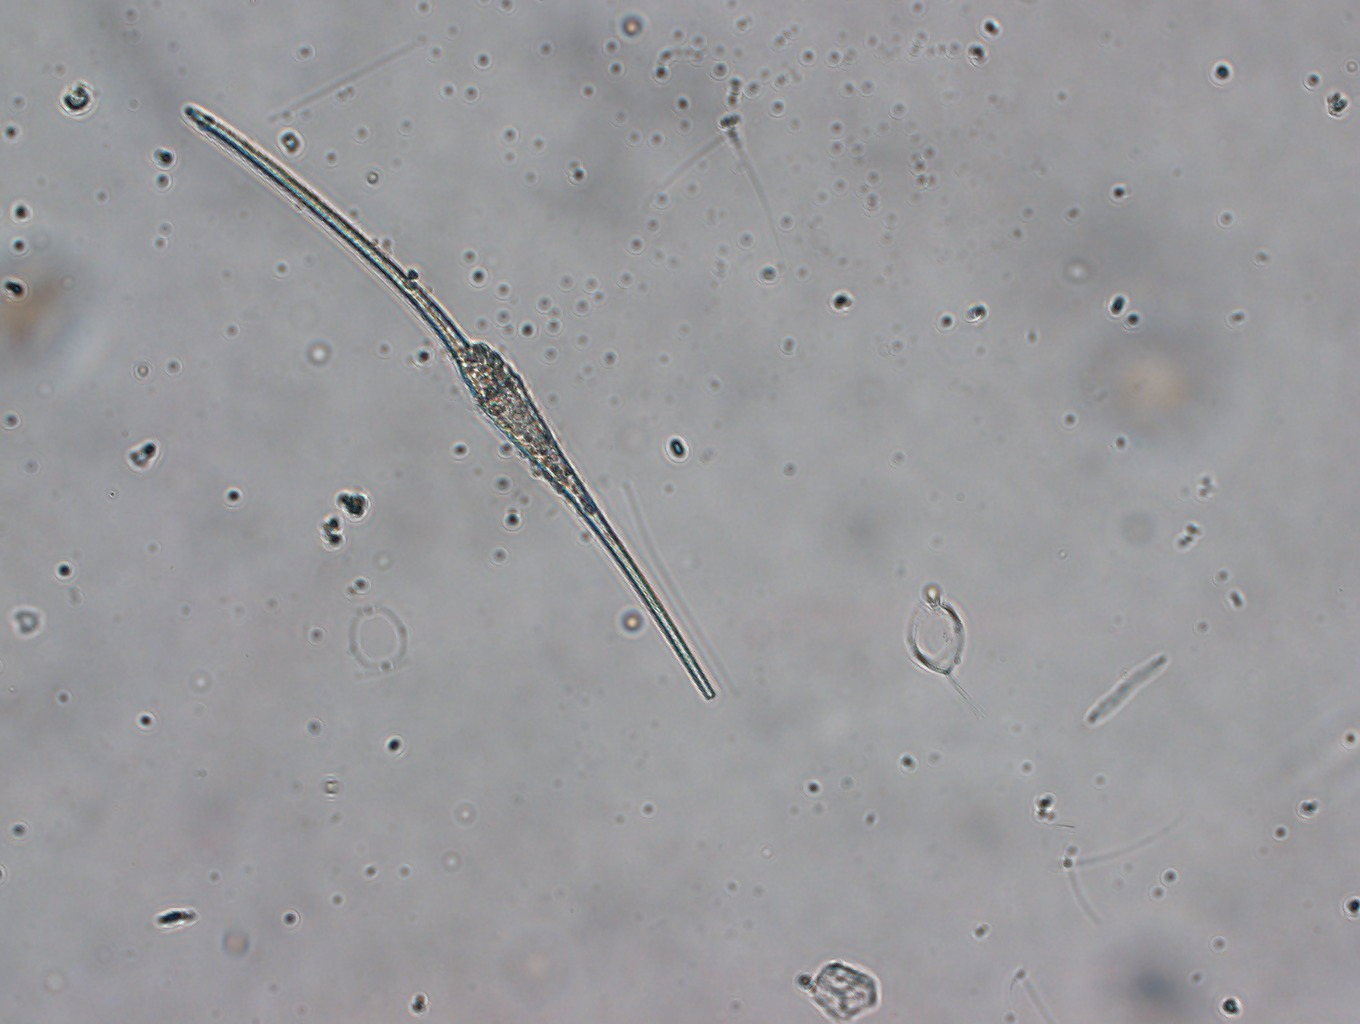ceratium fusus: (182, 103, 716, 702)
